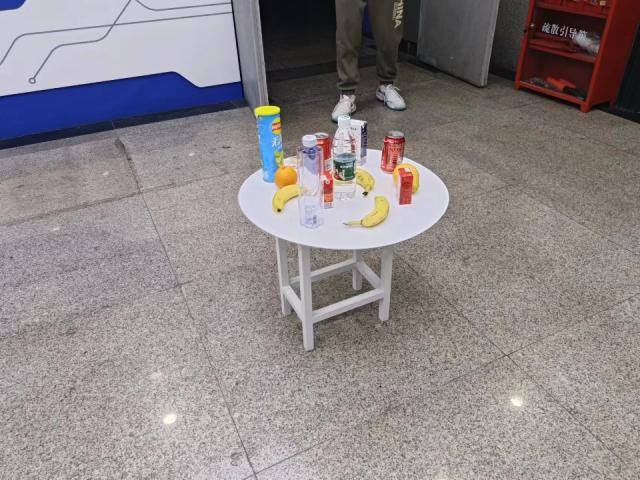Canned_drinks: (381, 131, 404, 171), (315, 132, 334, 174)
bottle: (296, 134, 325, 230), (333, 113, 356, 203)
cylinder: (253, 105, 286, 181)
drink_box: (351, 116, 367, 166), (396, 167, 413, 205), (324, 174, 334, 211)
